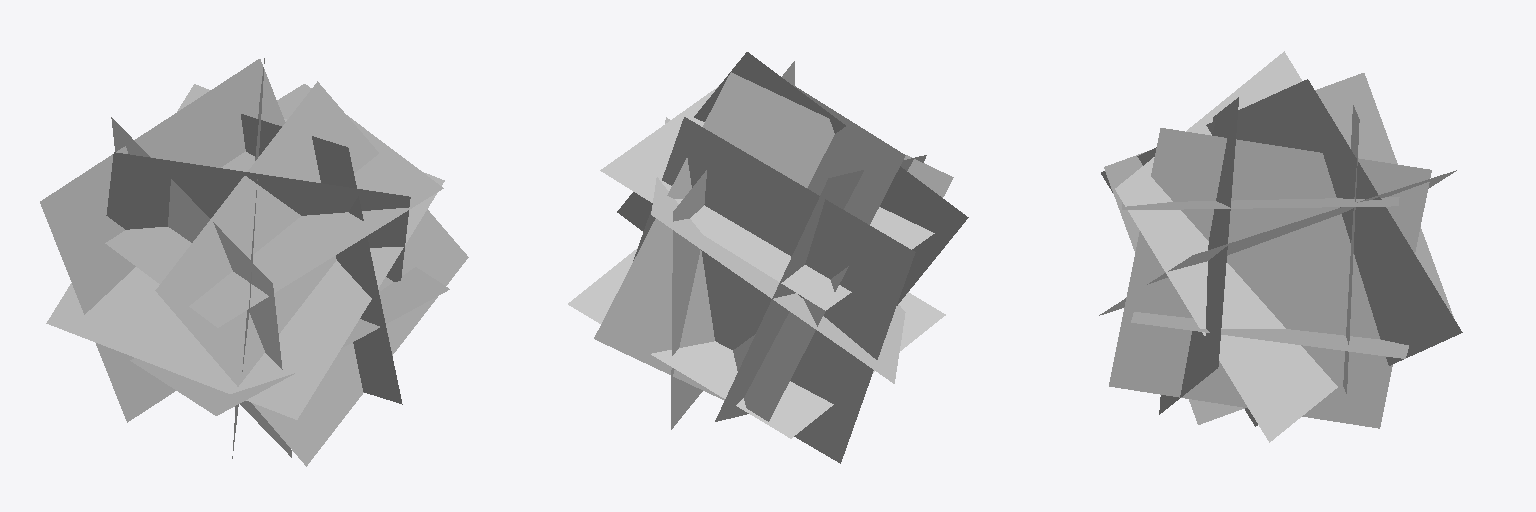
Rendered from spruce_leaves_5.obj.
3 views of the same model, side by side, from view 1: azimuth 30°, elevation 25°; view 2: azimuth 150°, elevation 25°; view 3: azimuth 270°, elevation 25° (orthographic).
Visible parts, largest first — view 1: bottom, east, west, top, north, south; view 2: top, south, west, east, north, bottom; view 3: west, south, east, bottom, north, top.
Part boxes in pixels (x1,y1,x2,y2): bottom: (155,81,468,466); east: (46,84,444,457); west: (106,114,410,404); top: (40,59,285,422); north: (105,84,443,327); south: (130,58,449,458); top: (633,117,915,463); south: (568,72,953,438); west: (671,61,905,429); east: (651,117,926,421); north: (600,86,962,310); bottom: (617,52,968,305); west: (1109,51,1431,442); south: (1101,79,1462,426); east: (1099,73,1456,424); bottom: (1159,97,1238,414); north: (1122,197,1399,209); top: (1343,105,1359,393).
Size of the model in its own units: 2.27 by 2.25 by 1.98.